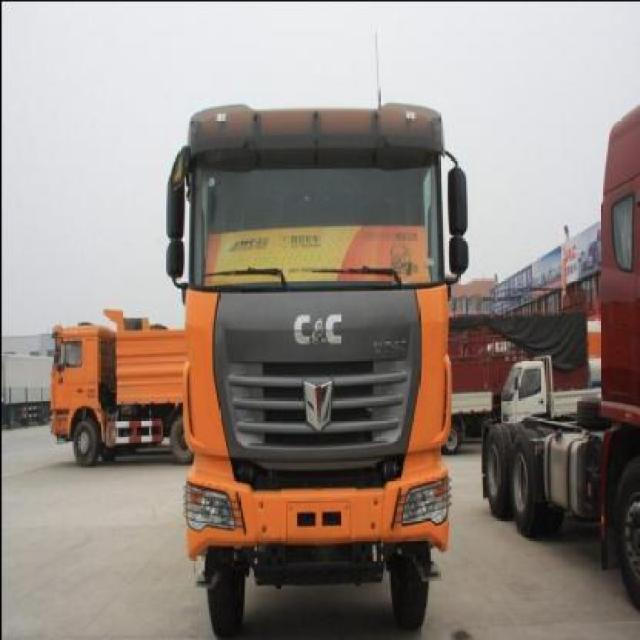dump_truck: (163, 95, 468, 638), (47, 293, 204, 459)
